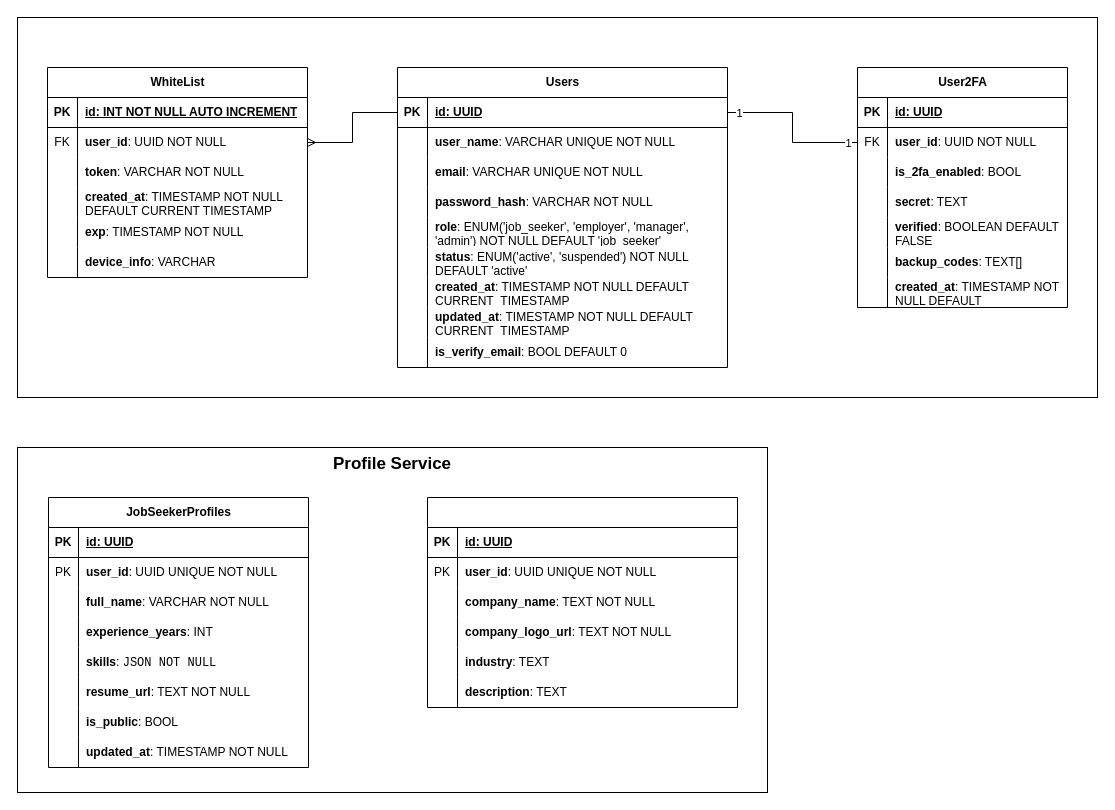
Some shapes in this 1115 by 810 pixel diagram are drawn without their labels. Each missing label, with the box of its shape:
EmployerProfiles: (426, 496, 738, 708)
User Service: (16, 16, 1098, 398)
